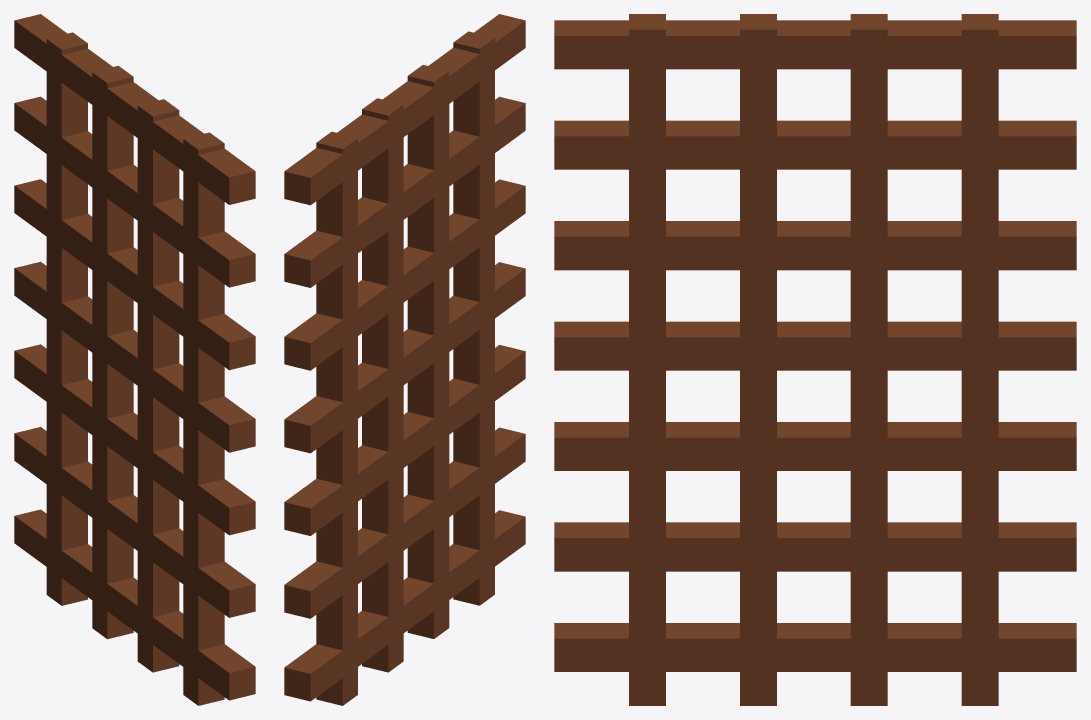
Rendered from MBS_CityWalls_Woodengate.fbx.
The picture shows the model from 3 angles, left to right: view 1: azimuth 30°, elevation 25°; view 2: azimuth 150°, elevation 25°; view 3: azimuth 270°, elevation 25°; orthographic projection. The views are drawn at different scales.
Visible parts, largest first — view 1: WallWoodenGate; view 2: WallWoodenGate; view 3: WallWoodenGate.
Boxes of the visible parts, x1=… form: WallWoodenGate: x1=14, y1=14, x2=255, y2=705; WallWoodenGate: x1=284, y1=14, x2=525, y2=705; WallWoodenGate: x1=554, y1=14, x2=1076, y2=705.
Size of the model in its own units: 19.8 by 400 by 280.
